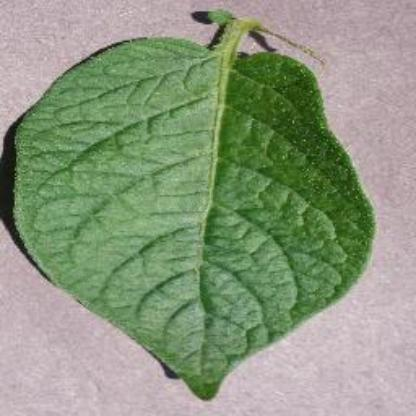Healthy-plant: (6, 6, 384, 404)
